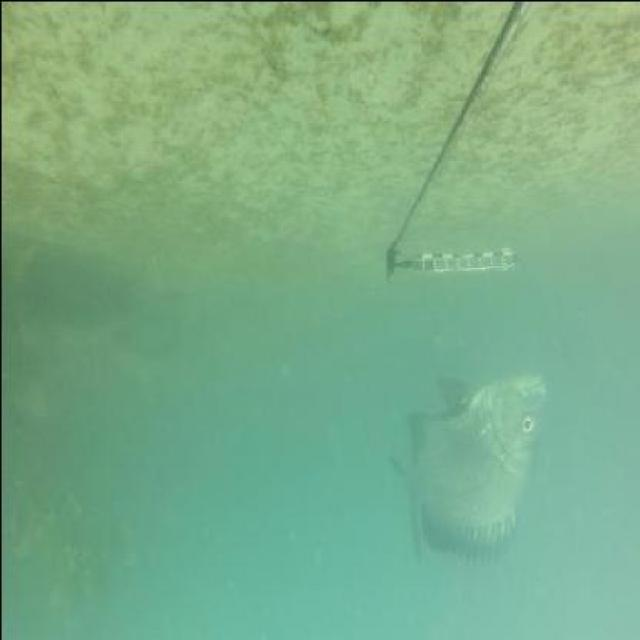acanthopagrus_palmaris: (384, 367, 548, 565)
